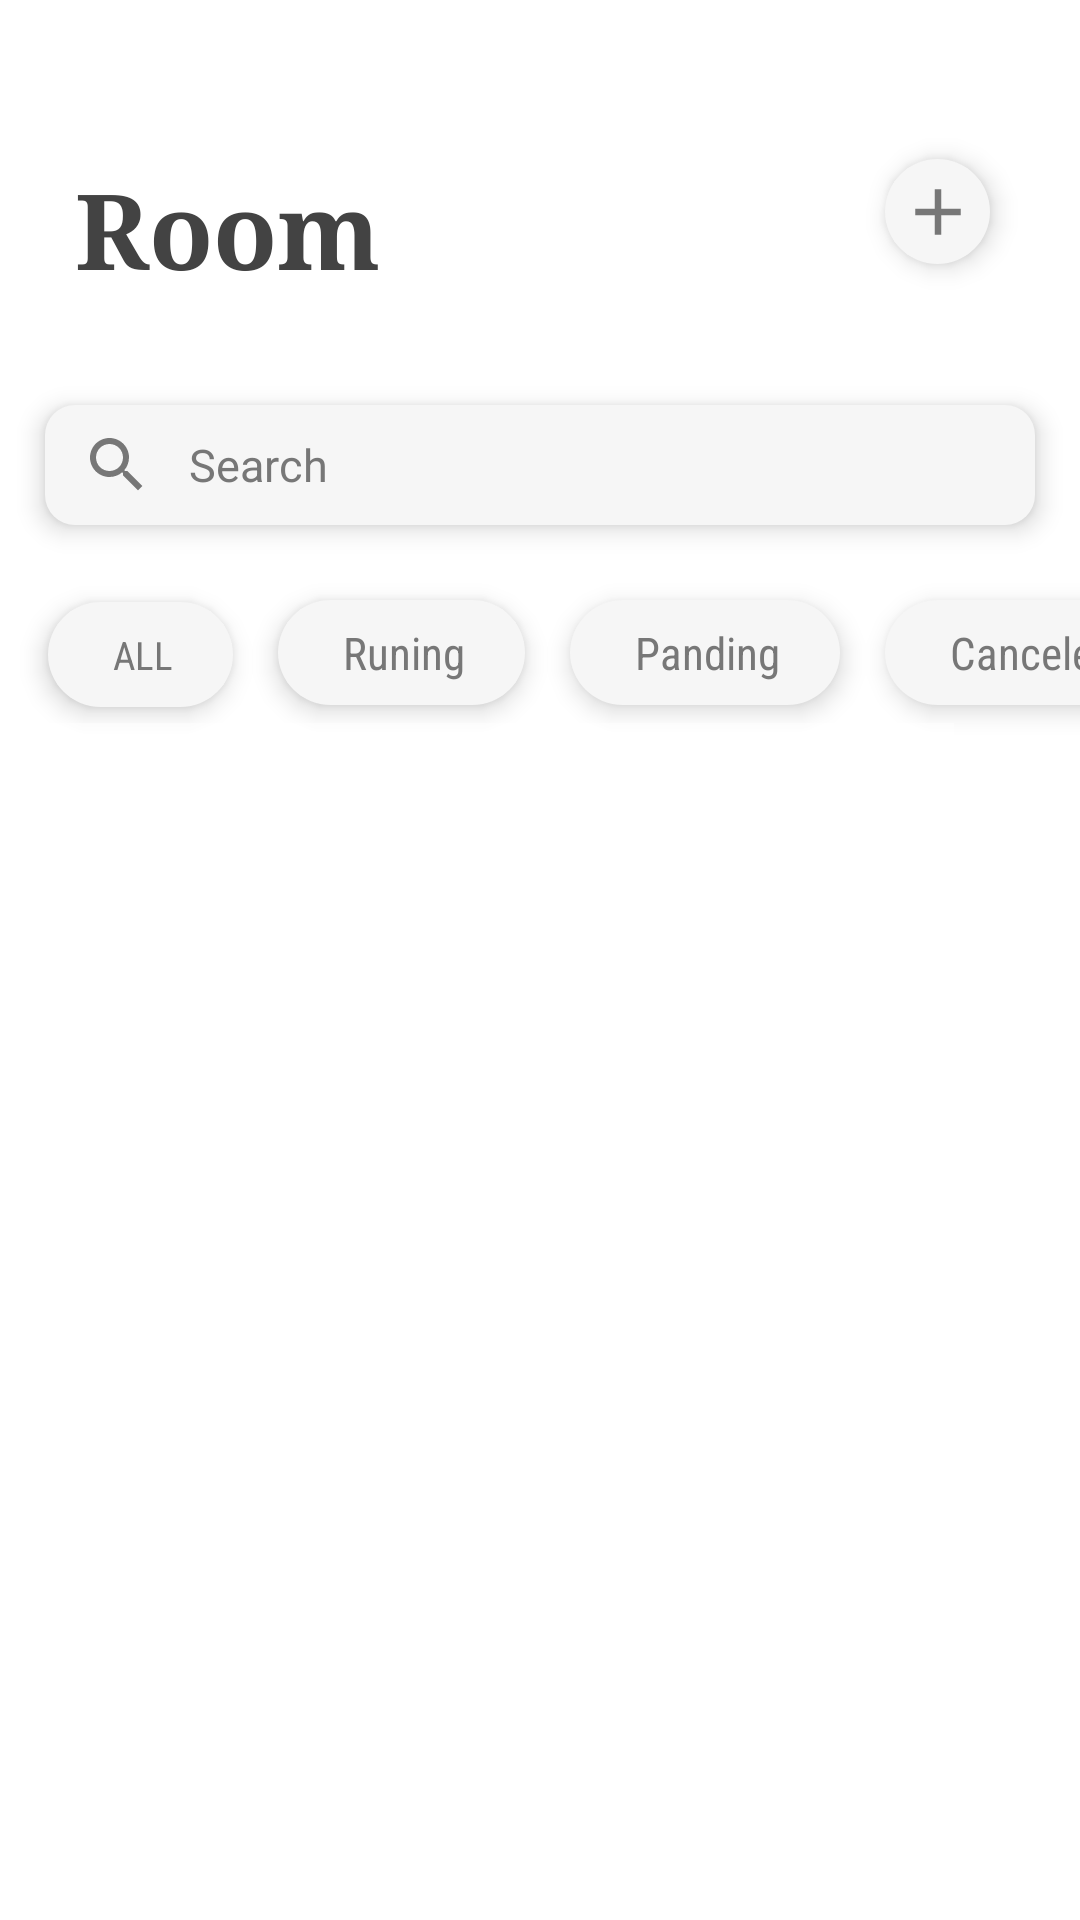

Locate icon controls on the screen. Image size 1080x1920, boxes as (x1, y1, x2, y2).
add: (915, 180, 990, 264)
